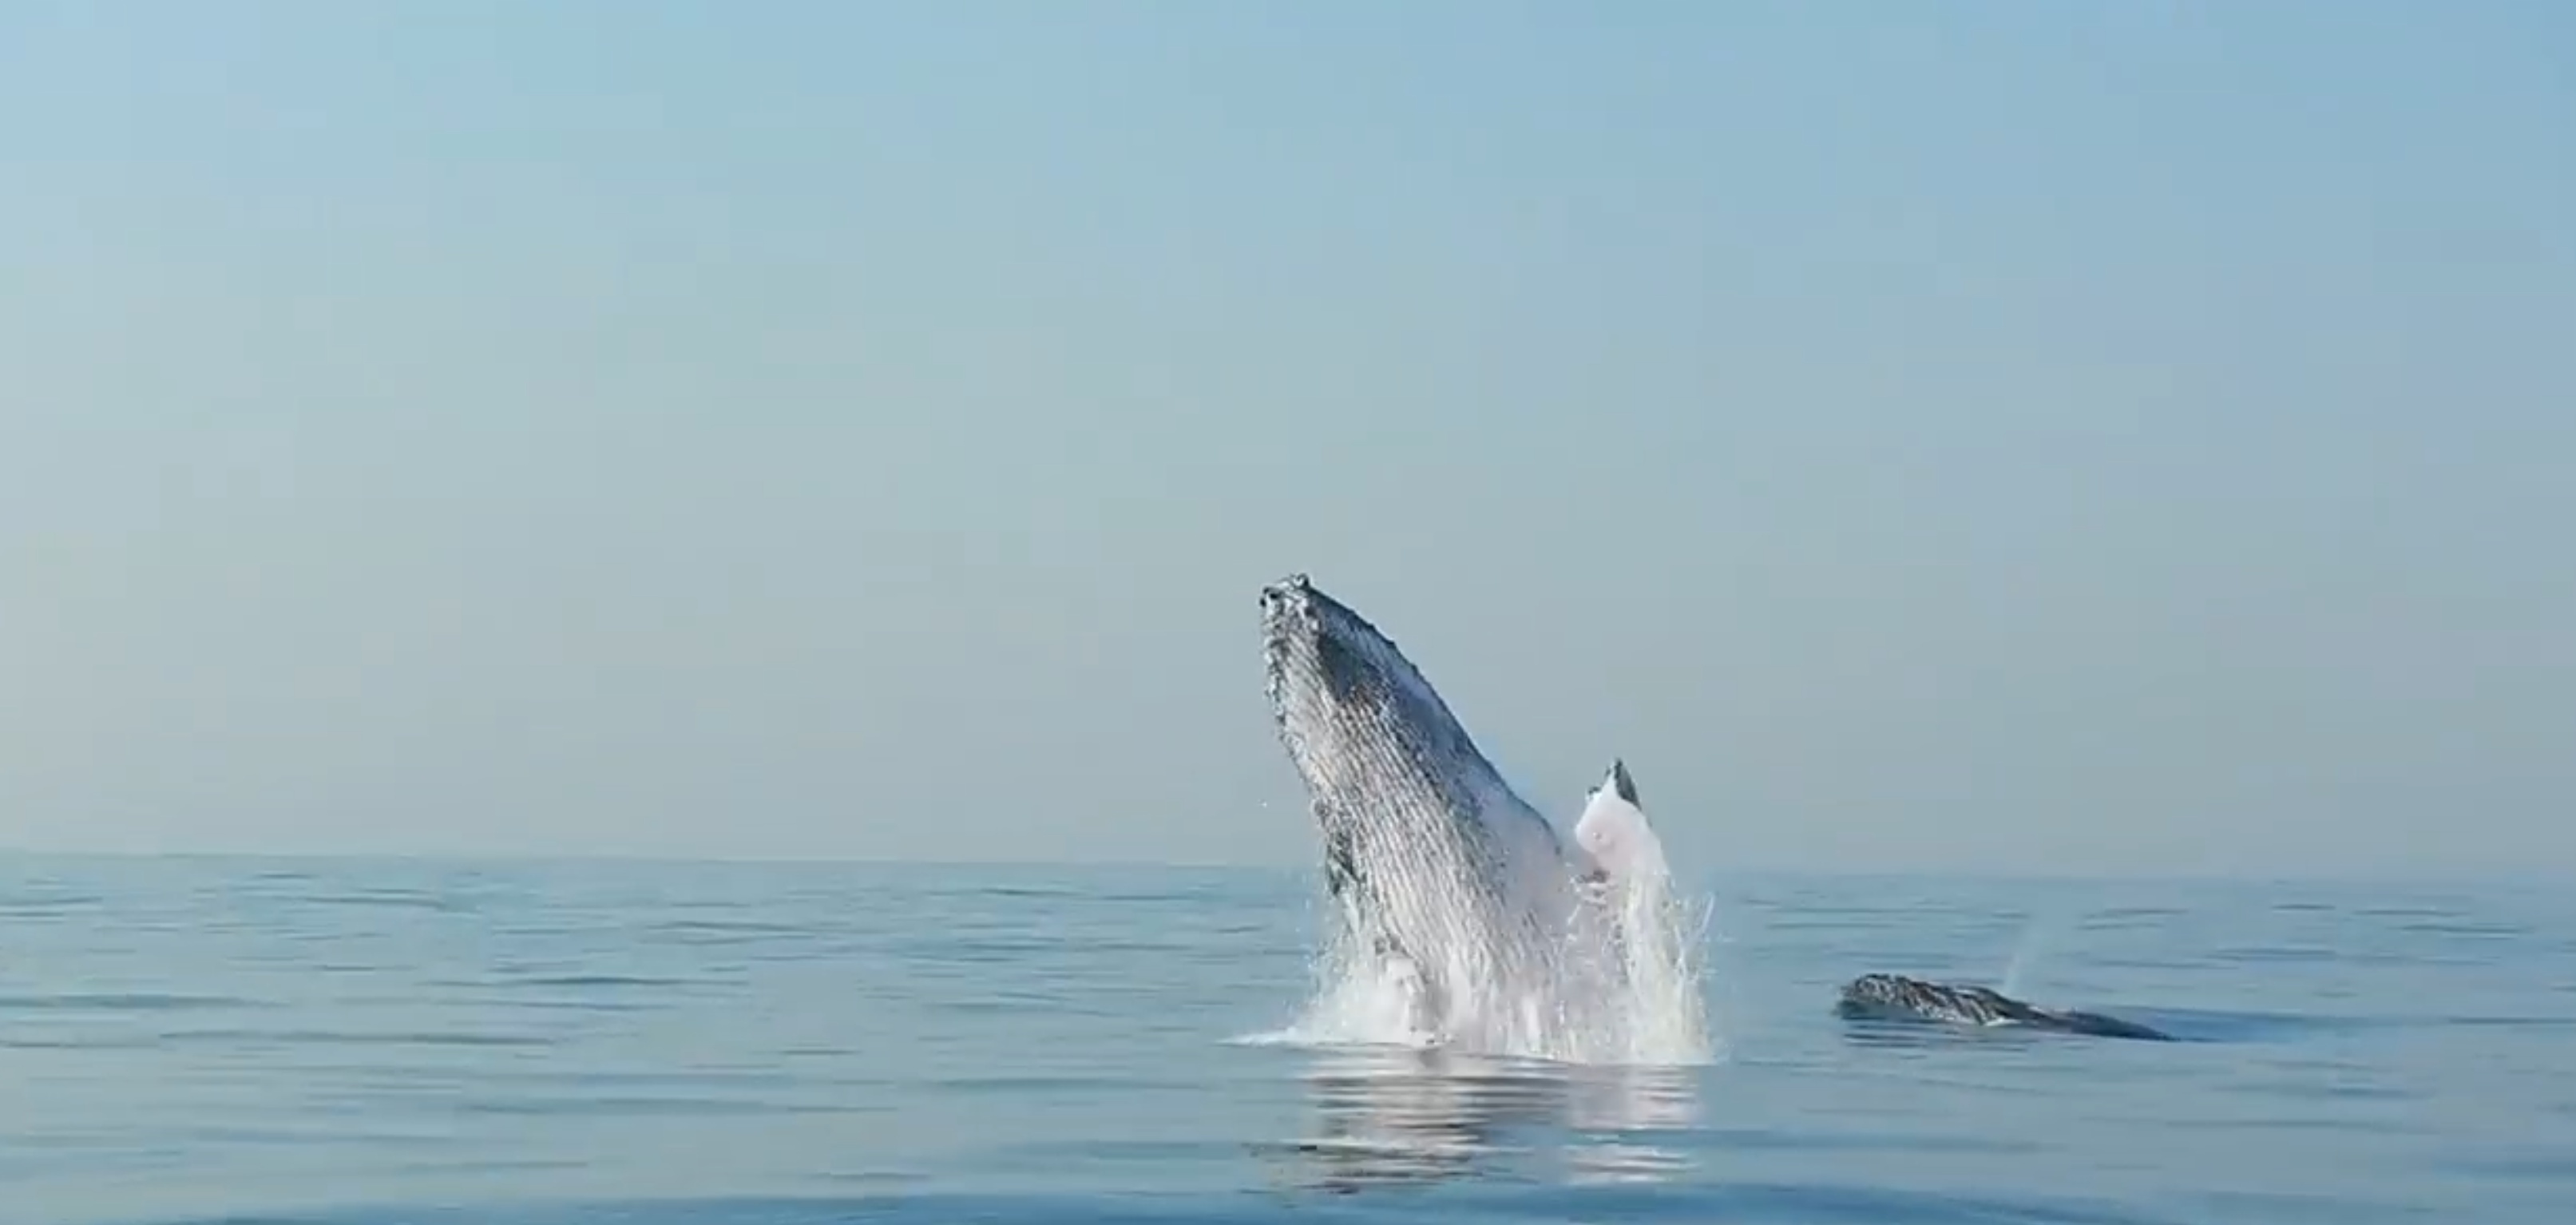humpback: (1255, 573, 1722, 1067)
